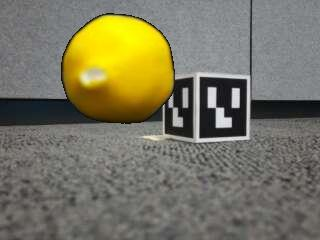lemon: (63, 15, 174, 123)
